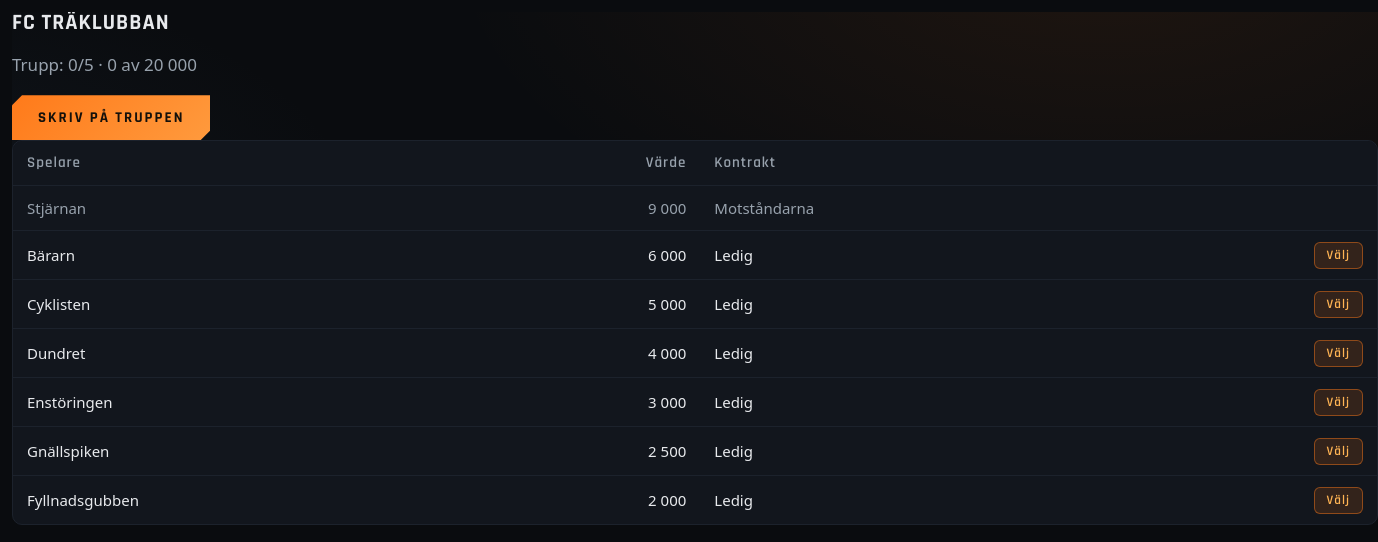
Scenario: SquadBuilder › refuses to submit over budget
Click the button "Välj" in the row of "Bärarn". click: (1338, 256)
box: x1=1314 y1=242 x2=1363 y2=269
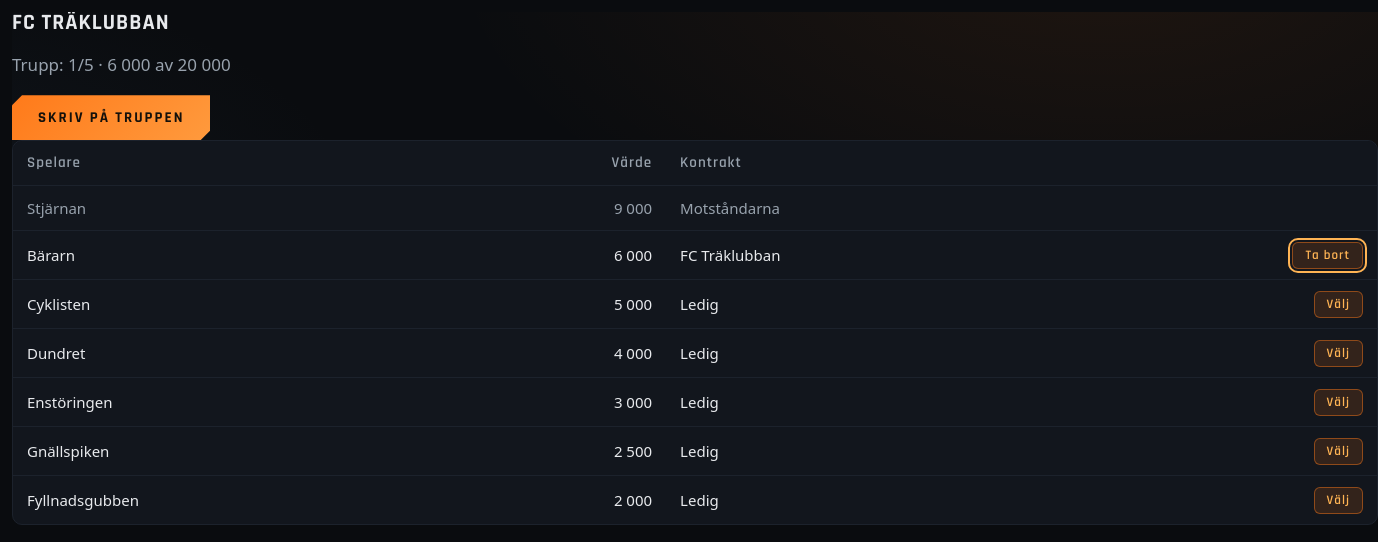
Click the button "Välj" in the row of "Cyklisten". click: (1338, 305)
box: x1=1314 y1=291 x2=1363 y2=318
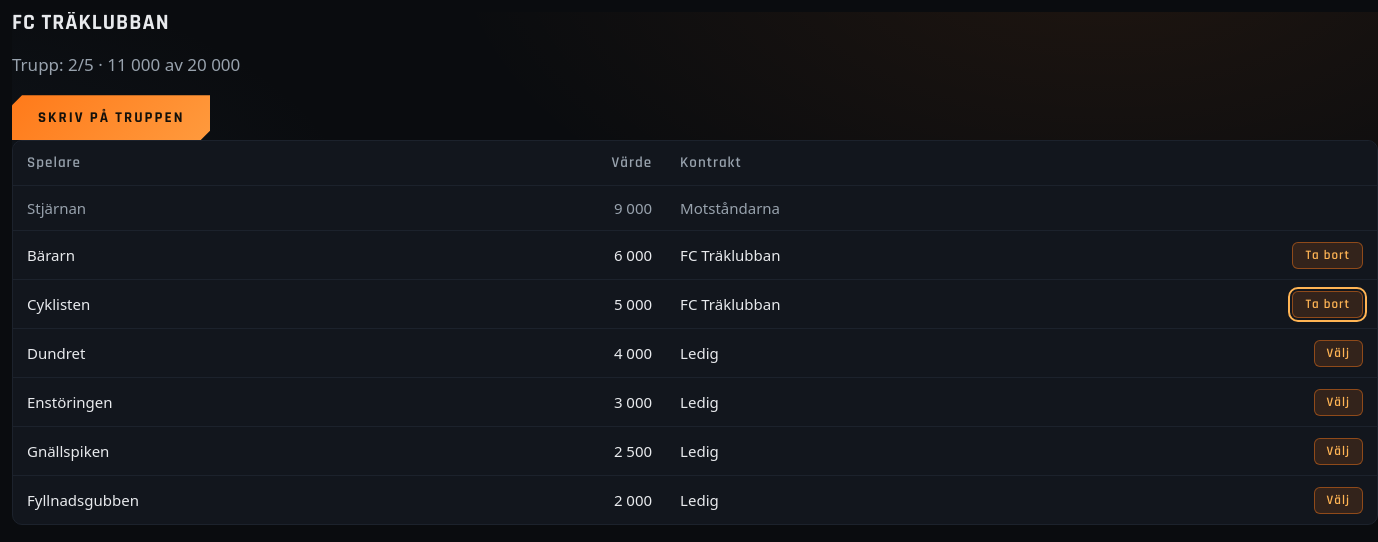
Click the button "Välj" in the row of "Dundret". click: (1338, 354)
box: x1=1314 y1=340 x2=1363 y2=367
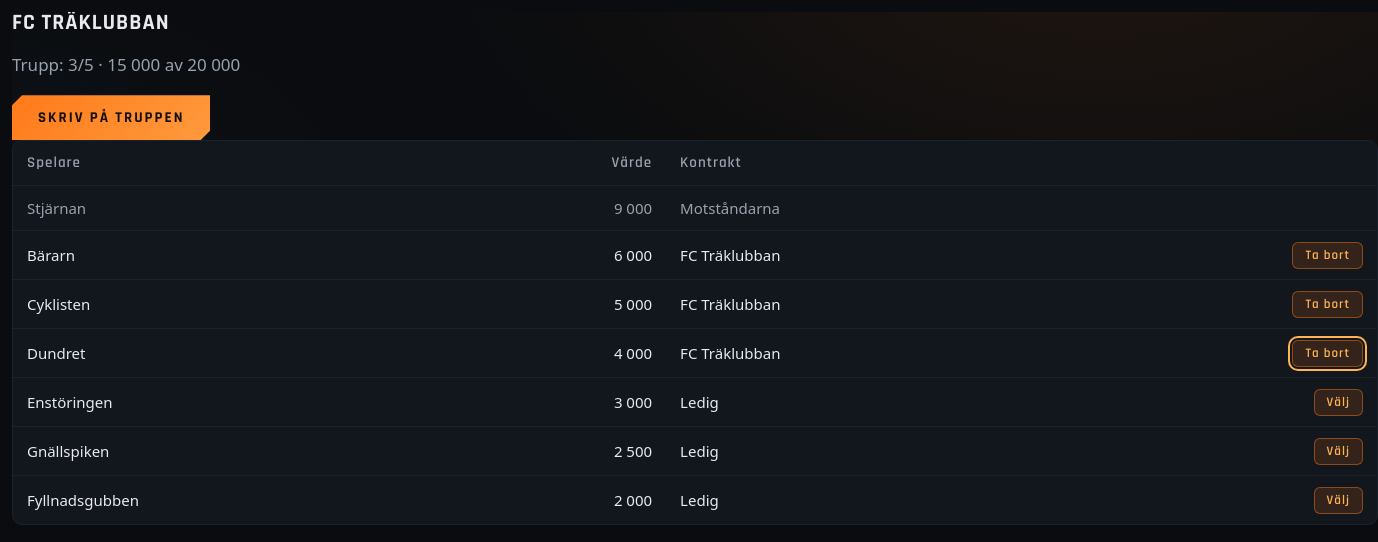
Click the button "Välj" in the row of "Enstöringen". click: (1338, 403)
box: x1=1314 y1=389 x2=1363 y2=416
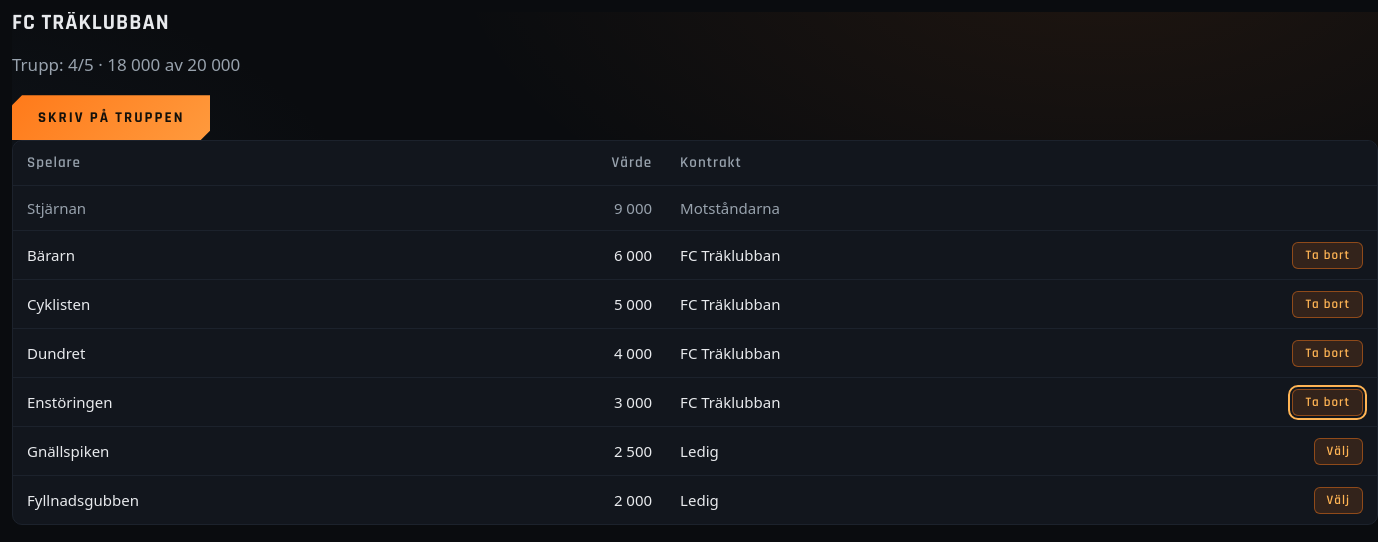
Click the button "Välj" in the row of "Gnällspiken". click: (1338, 452)
box: x1=1314 y1=438 x2=1363 y2=465
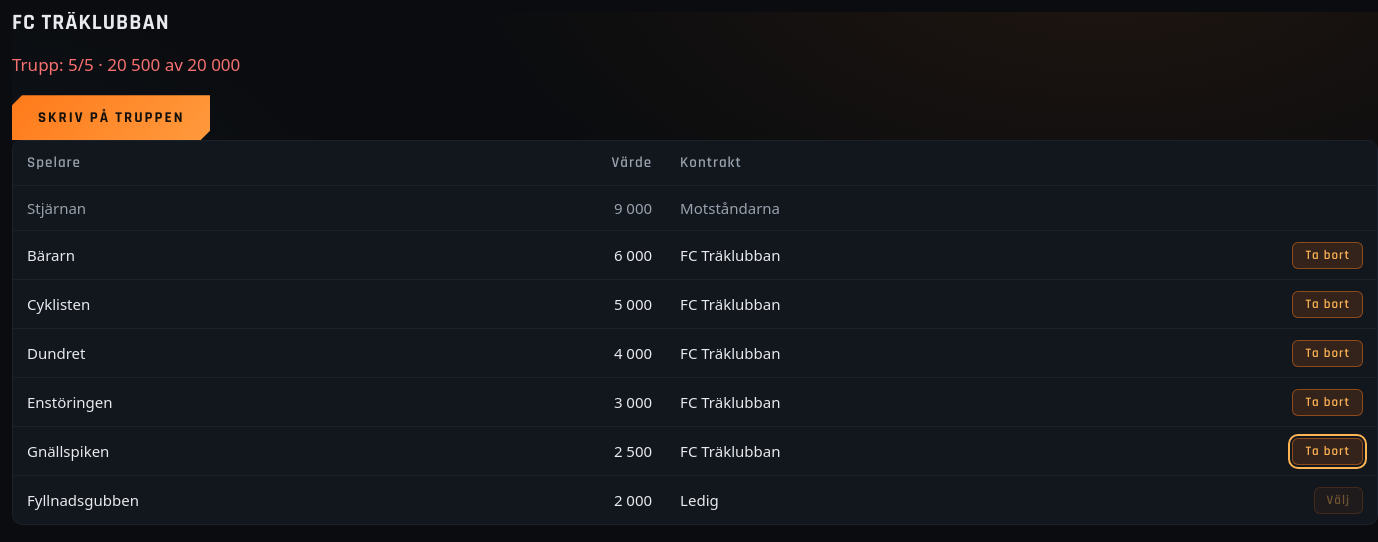
Expected: the button "Skriv på truppen" is disabled, x1=12 y1=95 x2=210 y2=140
Now the text "Trupp: 5/5 · 20 500 av 20 000" is shown, box x1=12 y1=53 x2=240 y2=76
